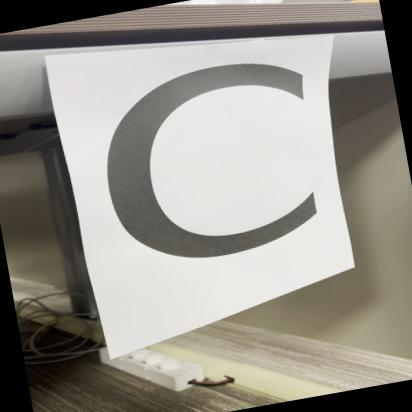seat: (72, 8, 372, 318), (68, 15, 351, 324)
